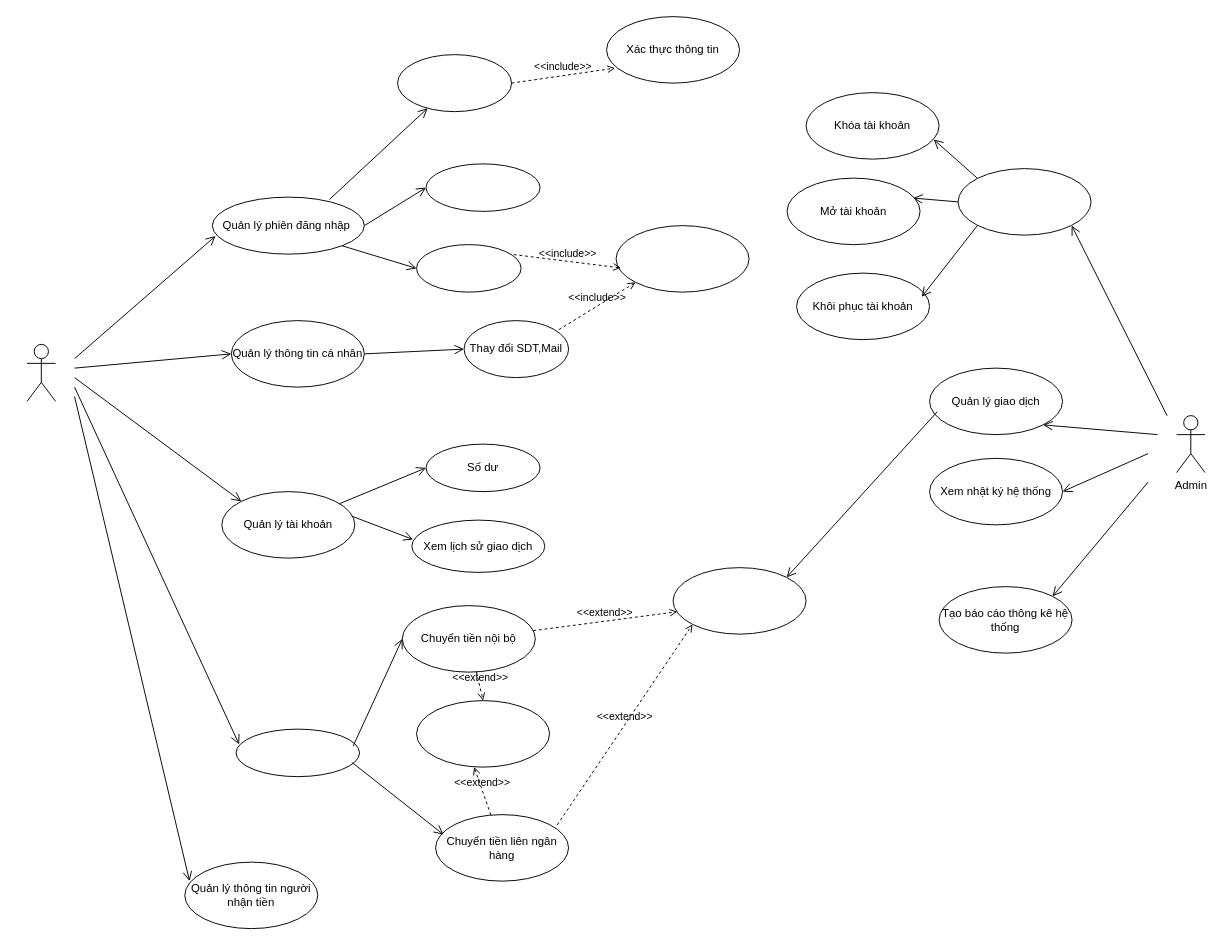
This 1224x945 diagram has some shape labels left out. Each missing label, with the centre of its shape:
"Chuyển tiền" goes at (x=297, y=752).
"Customer" goes at (x=41, y=372).
"Lưu người hưởng thụ" goes at (x=483, y=733).
"OTP,Mail" goes at (x=682, y=258).
"Quên mật khẩu" goes at (x=468, y=268).
"Quản lý người dùng" goes at (x=1024, y=201).
"Xác thực số tiền" goes at (x=739, y=600).
"Đăng ký" goes at (x=482, y=187).
"Đăng nhập" goes at (x=454, y=83).
